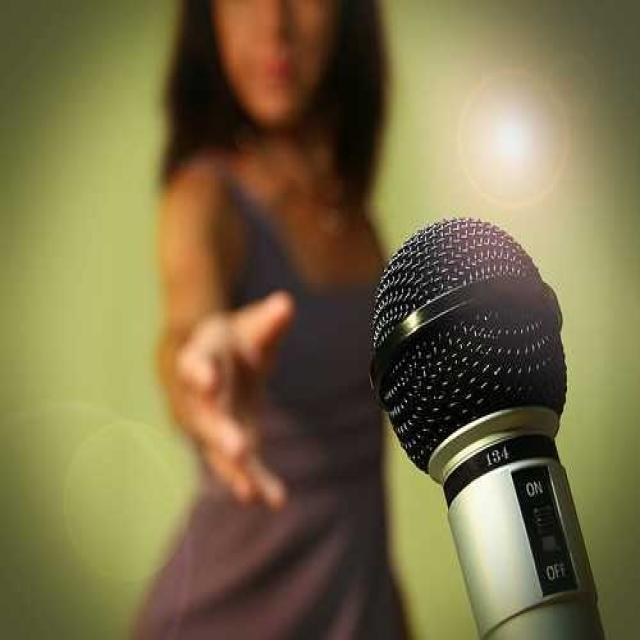microphone: (368, 219, 615, 635)
